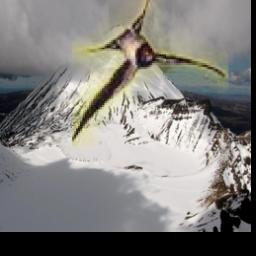Swallow: (72, 0, 228, 147)
